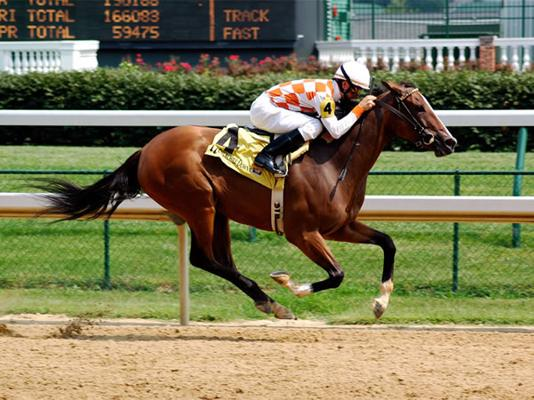person: (249, 62, 377, 177)
